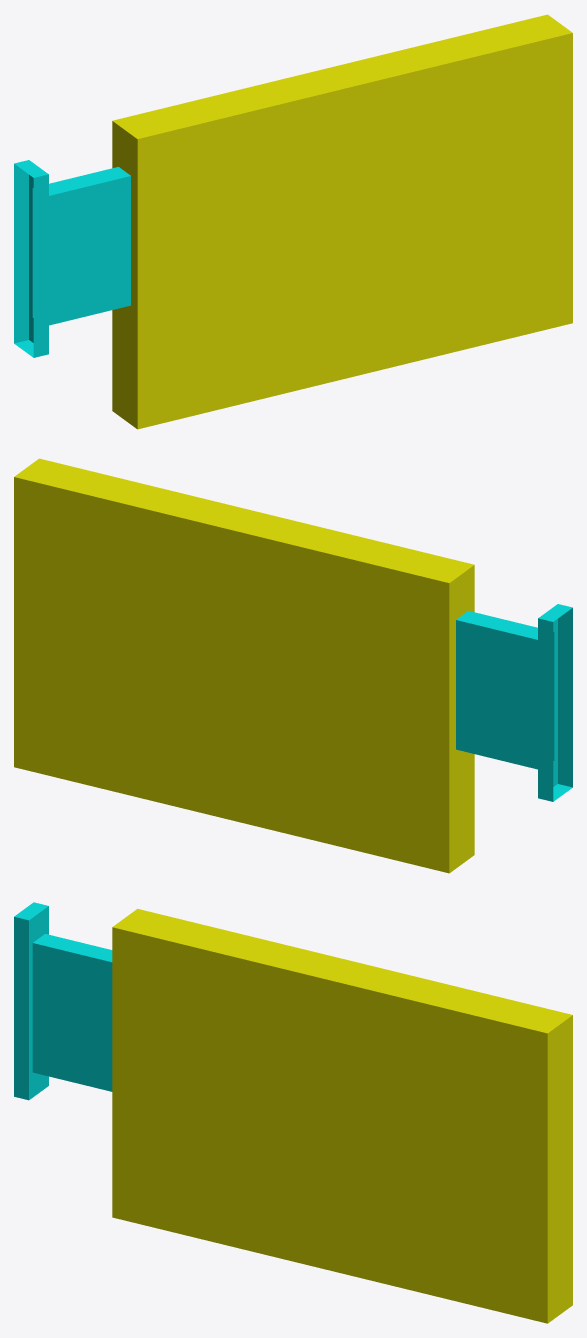
File: StationClock.fbx
3 views of the same model, one above another, from view 1: azimuth 30°, elevation 25°; view 2: azimuth 150°, elevation 25°; view 3: azimuth 330°, elevation 25° (orthographic).
Visible parts, largest first — view 1: LOW_Accesorios_reloj; view 2: LOW_Accesorios_reloj; view 3: LOW_Accesorios_reloj.
Part boxes in pixels (x1=…): LOW_Accesorios_reloj: x1=14, y1=14, x2=572, y2=429; LOW_Accesorios_reloj: x1=14, y1=458, x2=572, y2=873; LOW_Accesorios_reloj: x1=14, y1=902, x2=572, y2=1323.
Bounding box in the file's own units: 11.48 × 5.94 × 0.9359.
